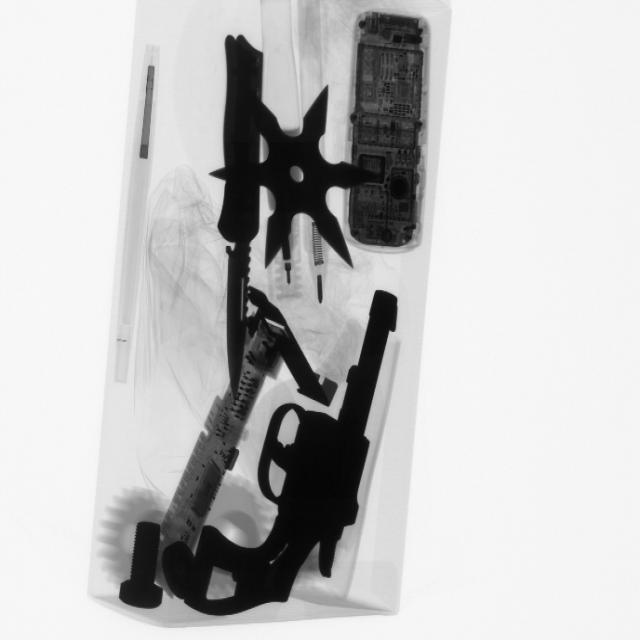GUN: (199, 290, 403, 624)
KNIFE: (202, 29, 275, 393)
SHURIKEN: (232, 59, 380, 278)
